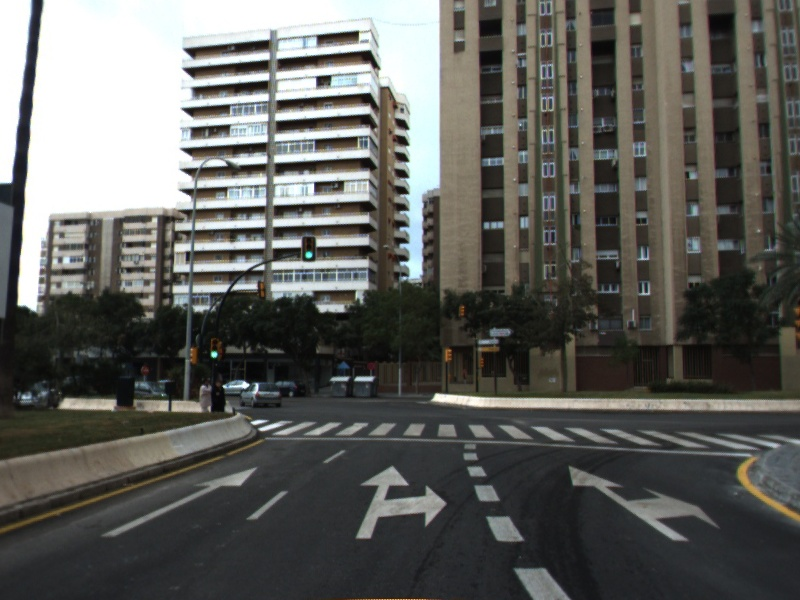STRAIGHT: (98, 465, 261, 539)
STRAIGHT_RIGHT: (567, 464, 724, 544), (353, 463, 450, 541)
